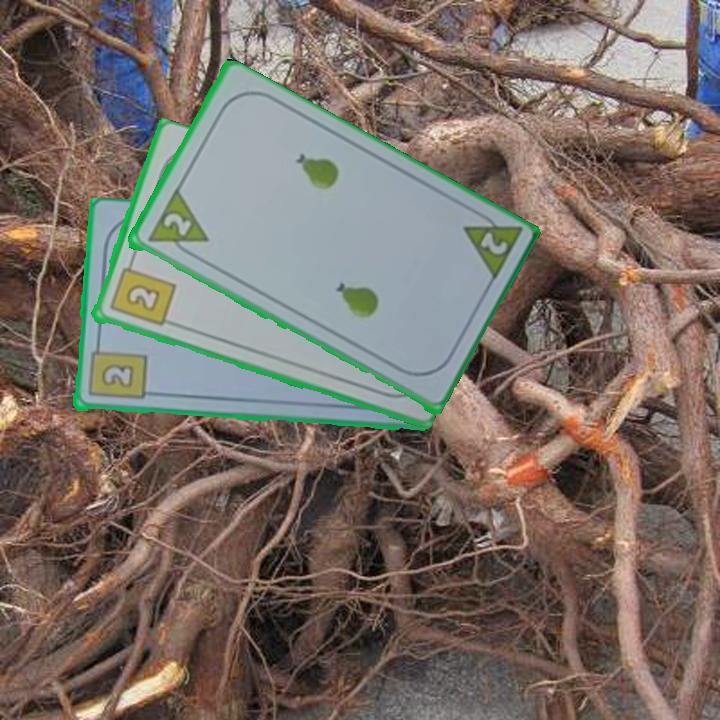2b: (106, 256, 177, 329), (84, 339, 148, 403)
2p: (159, 209, 194, 240), (475, 228, 510, 259)
